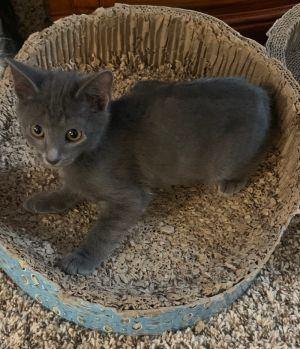rblue: (1, 39, 132, 176)
